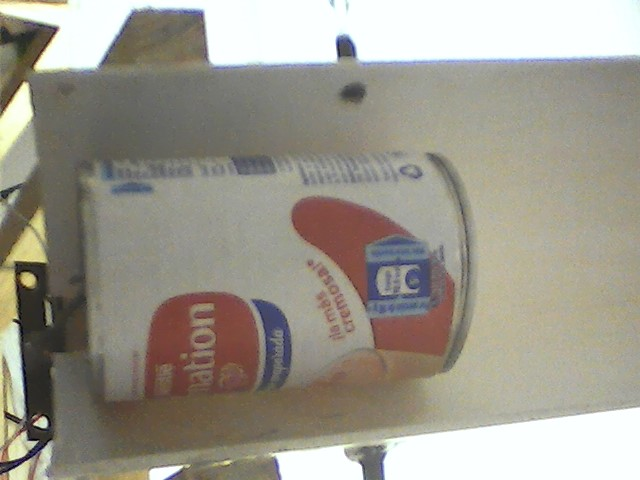lata: (66, 146, 486, 409)
